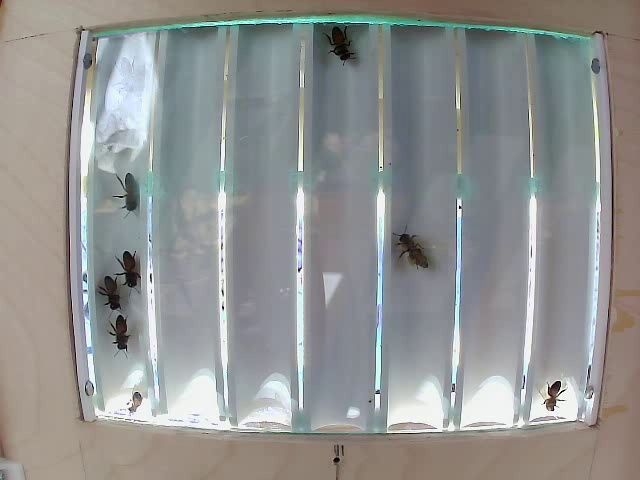bee: (114, 179, 154, 237), (318, 26, 363, 76), (392, 220, 428, 281), (111, 240, 148, 298), (94, 269, 126, 321), (99, 311, 129, 349)
